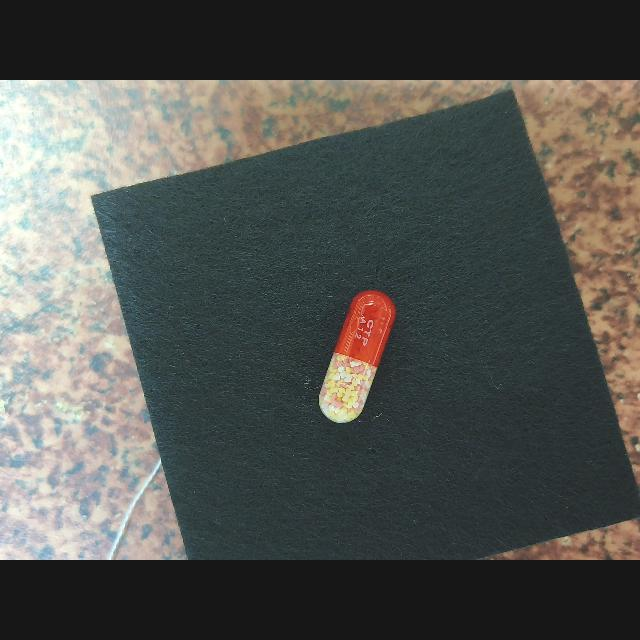Intact Capsule: (319, 290, 396, 423)
